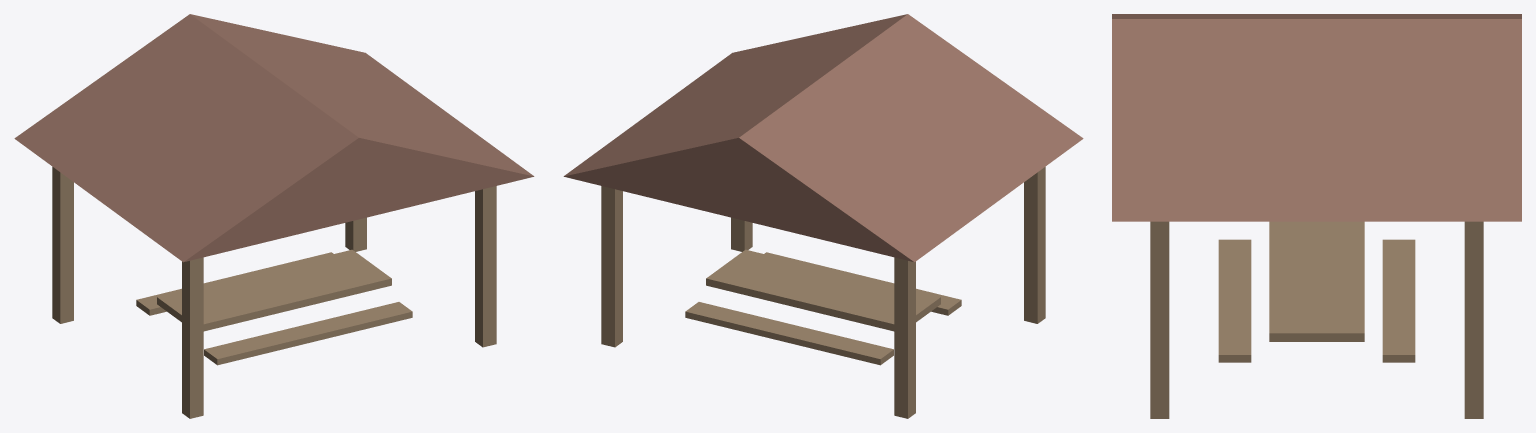
3 views of the same model, side by side, from view 1: azimuth 30°, elevation 25°; view 2: azimuth 150°, elevation 25°; view 3: azimuth 270°, elevation 25° (orthographic). The views are drawn at different scales.
Size of the model in its own units: 7.2 by 5 by 6.
